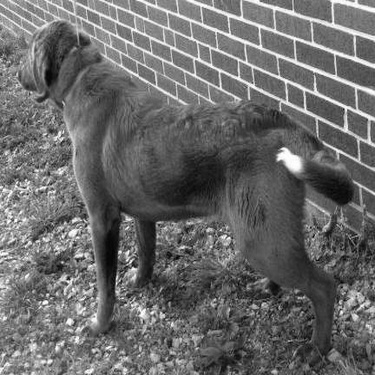dog: (10, 11, 355, 367)
